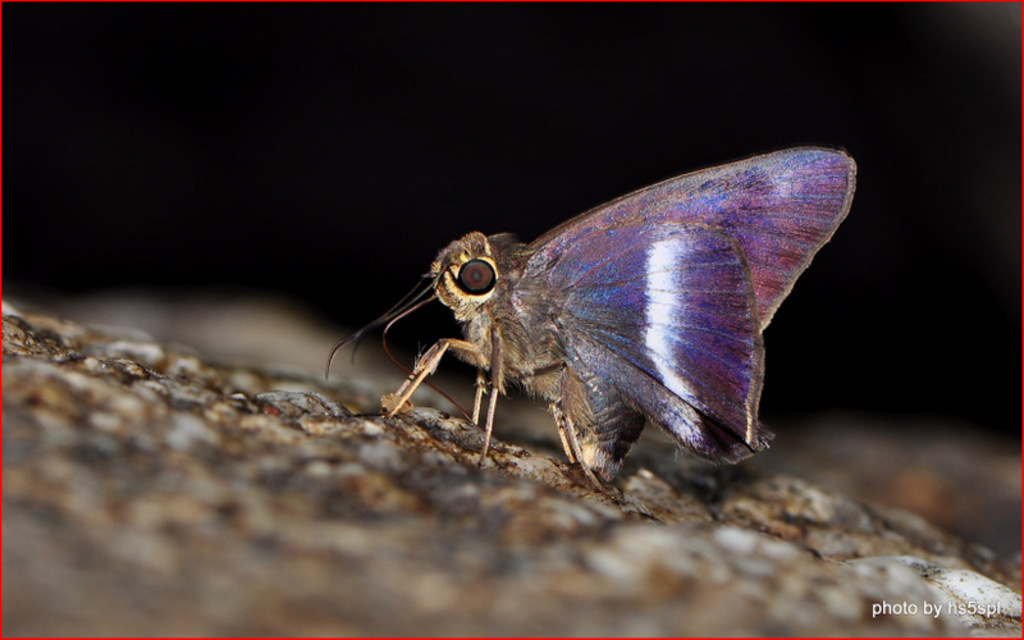Butterfly: (376, 152, 873, 512)
